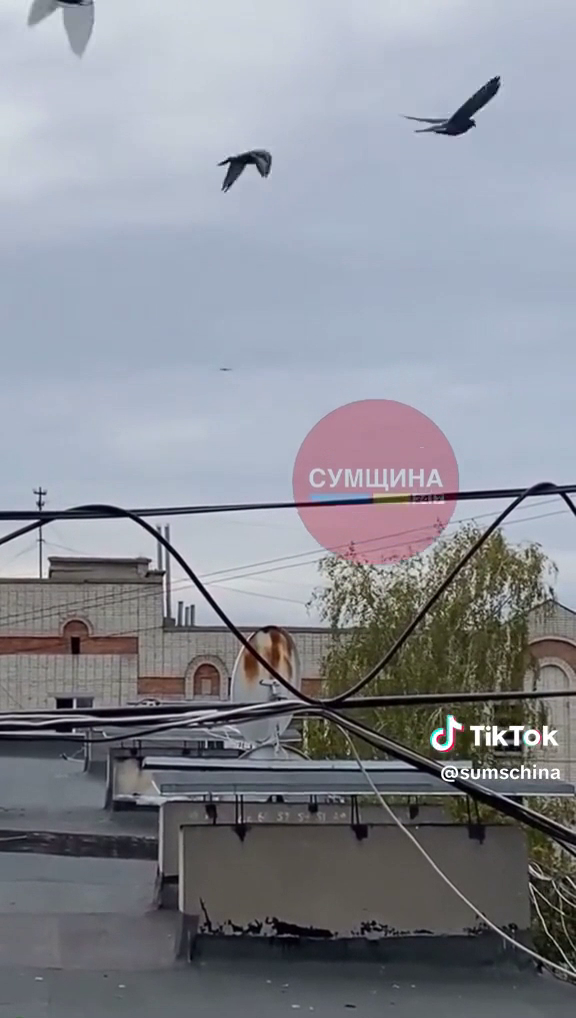not_drone: (204, 118, 281, 212)
